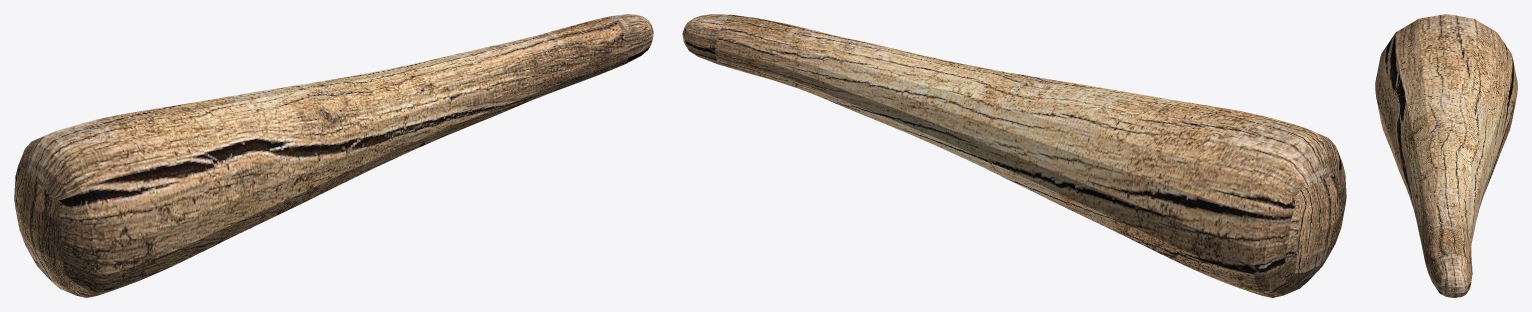
Rendered from woodenclub.fbx.
3 renders of one model, left to right at view 1: azimuth 30°, elevation 25°; view 2: azimuth 150°, elevation 25°; view 3: azimuth 270°, elevation 25°, orthographic. The views are drawn at different scales.
Visible parts, largest first — view 1: Cube; view 2: Cube; view 3: Cube.
Part boxes in pixels (<box>): Cube: <box>14,14,653,297</box>; Cube: <box>682,14,1346,297</box>; Cube: <box>1375,14,1517,297</box>.
Bounding box in the file's own units: 1500 × 356 × 352.
Materials: 1 (1 with a texture image).
